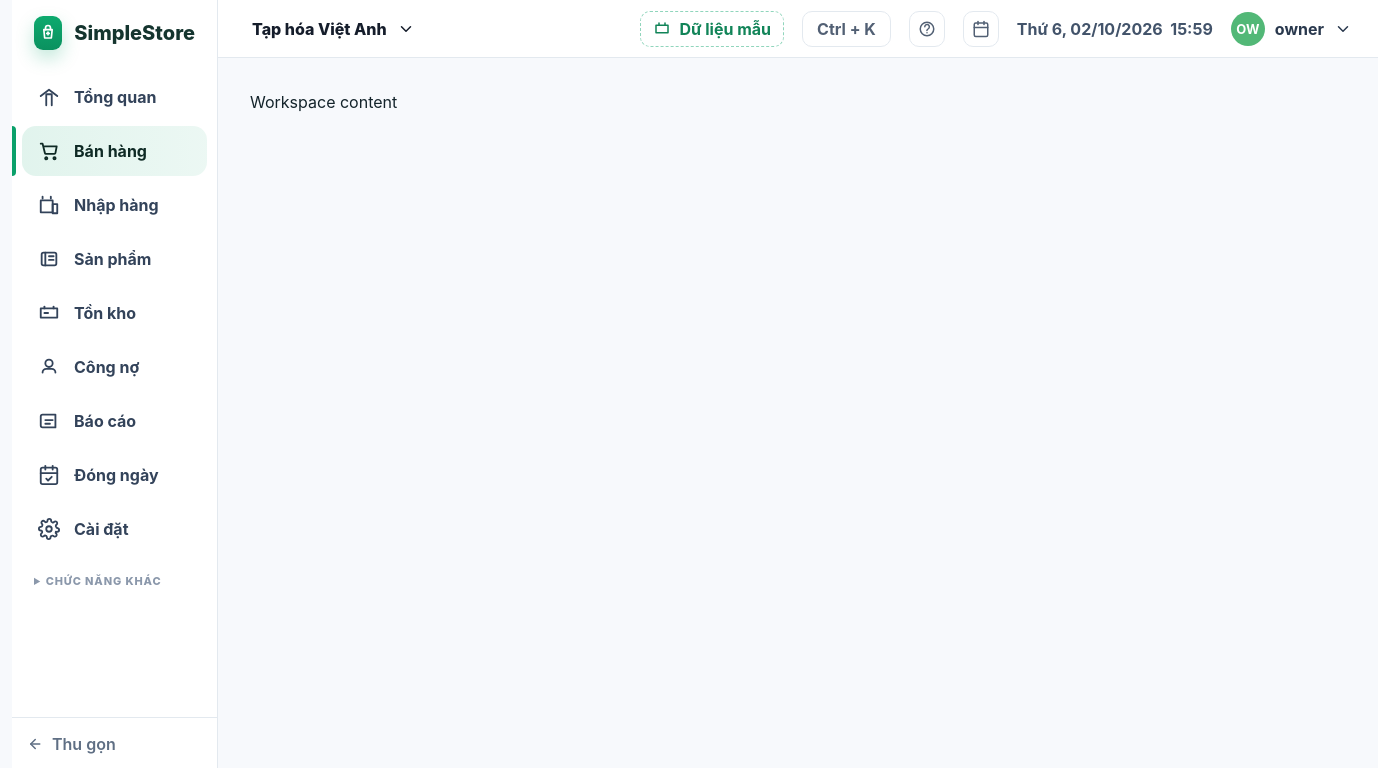
Scenario: AppShell › toggles browser-only sample data from the sales header
The image size is (1378, 768).
Click the button with class "app-mock-toggle".
click(712, 28)  # box x1=640 y1=10 x2=784 y2=46
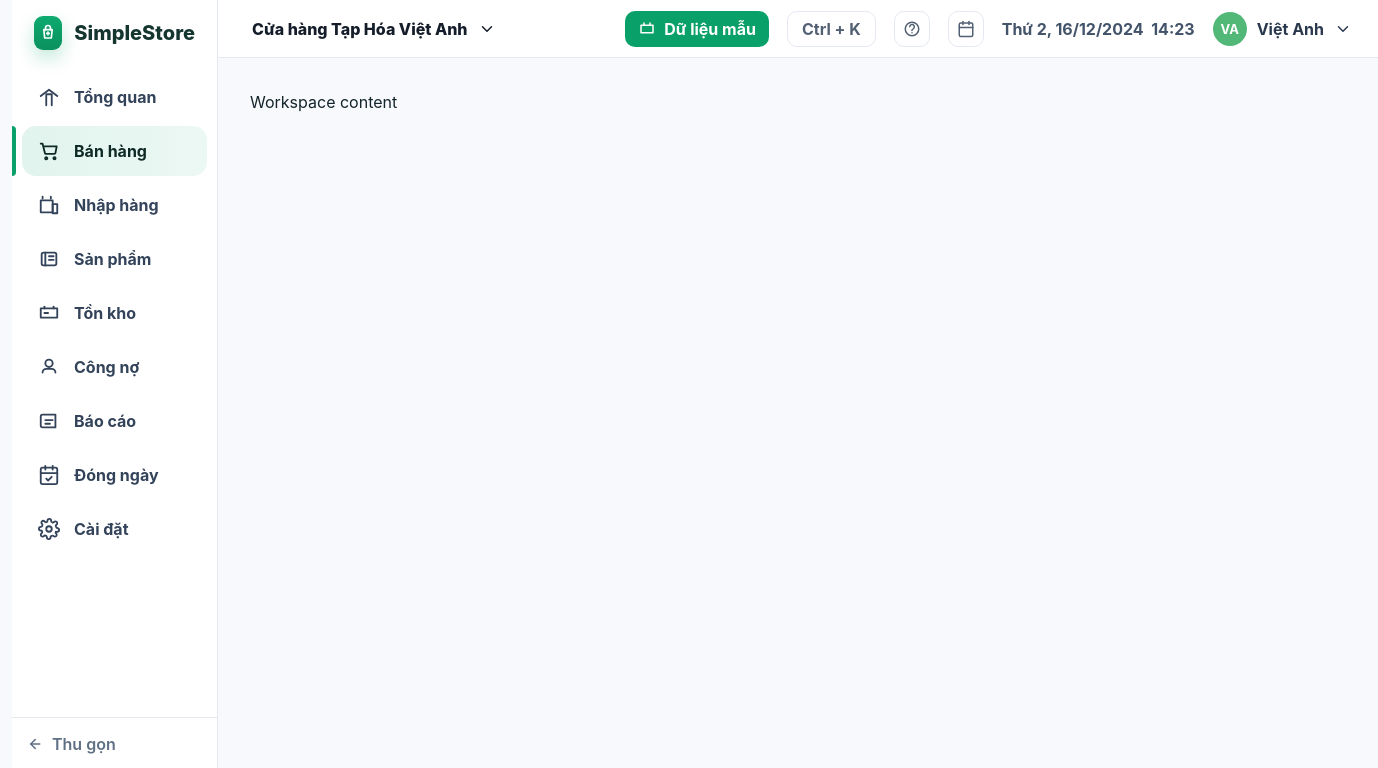
Expected: the header with class "app-topbar" shows "Việt Anh", x1=1257 y1=18 x2=1324 y2=38
Result: the header with class "app-topbar" shows "Cửa hàng Tạp Hóa Việt Anh" at x1=252 y1=18 x2=468 y2=38
Click the button with class "app-mock-toggle".
click(697, 28)  # box x1=625 y1=10 x2=769 y2=46
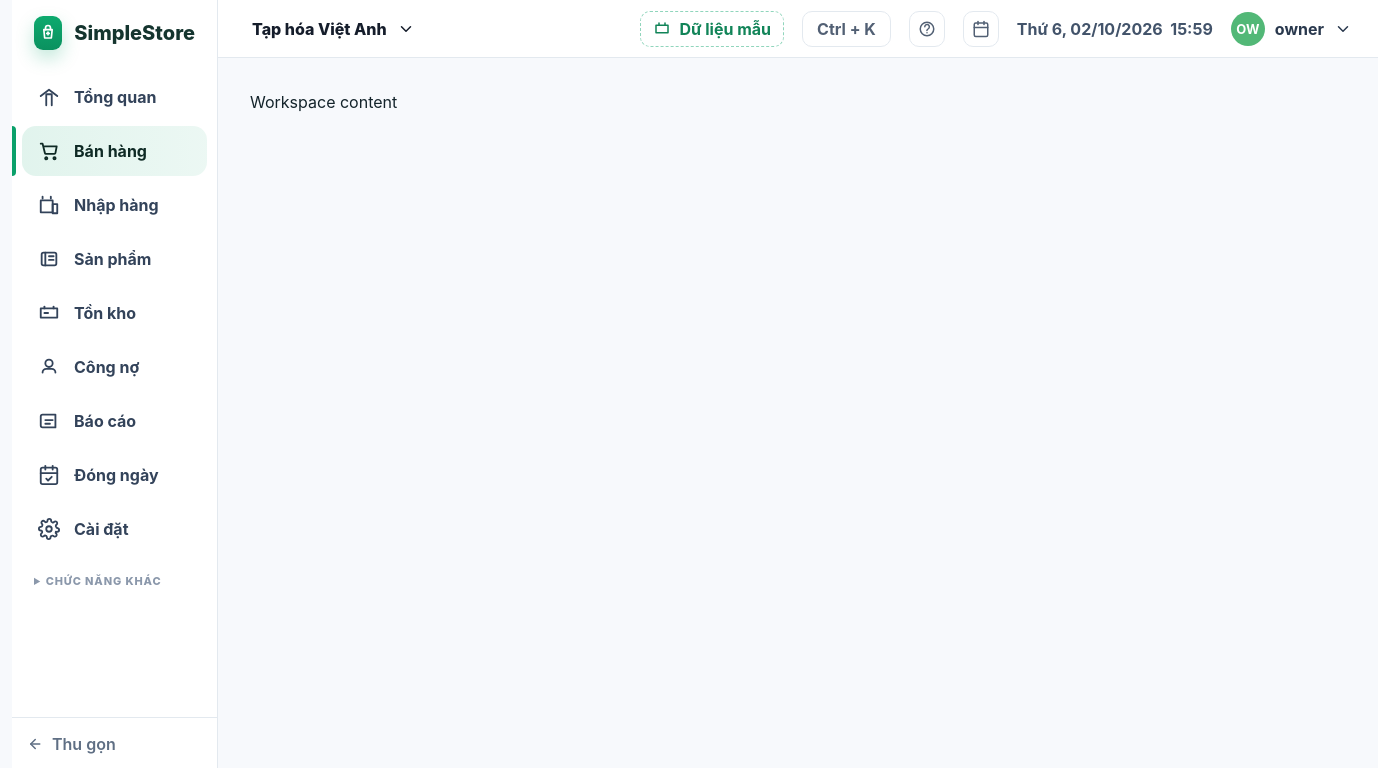
Result: the header with class "app-topbar" shows "owner" at x1=1275 y1=18 x2=1324 y2=38
